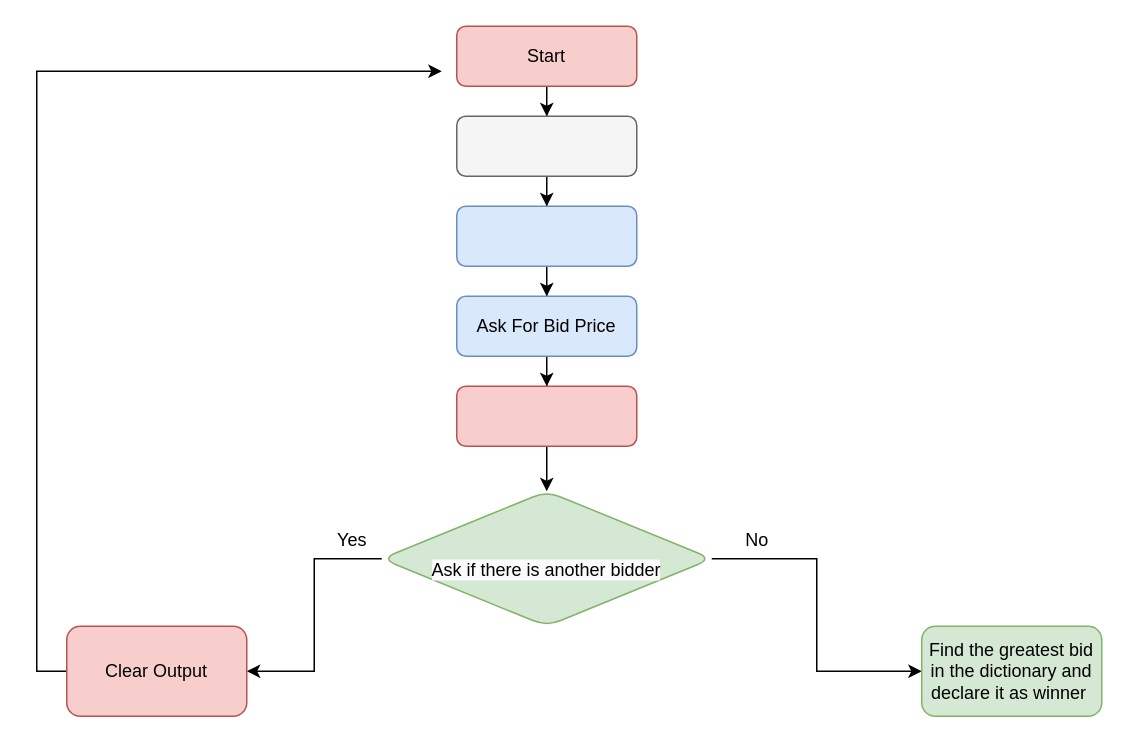
Image size: 1128x743. Some labels were removed from this diagram. Each missing label, with the centre of its shape:
Add Name And Bid in a dictionary: point 546,415
Ask For Name Input: point 546,235
Show Logo: point 546,145
